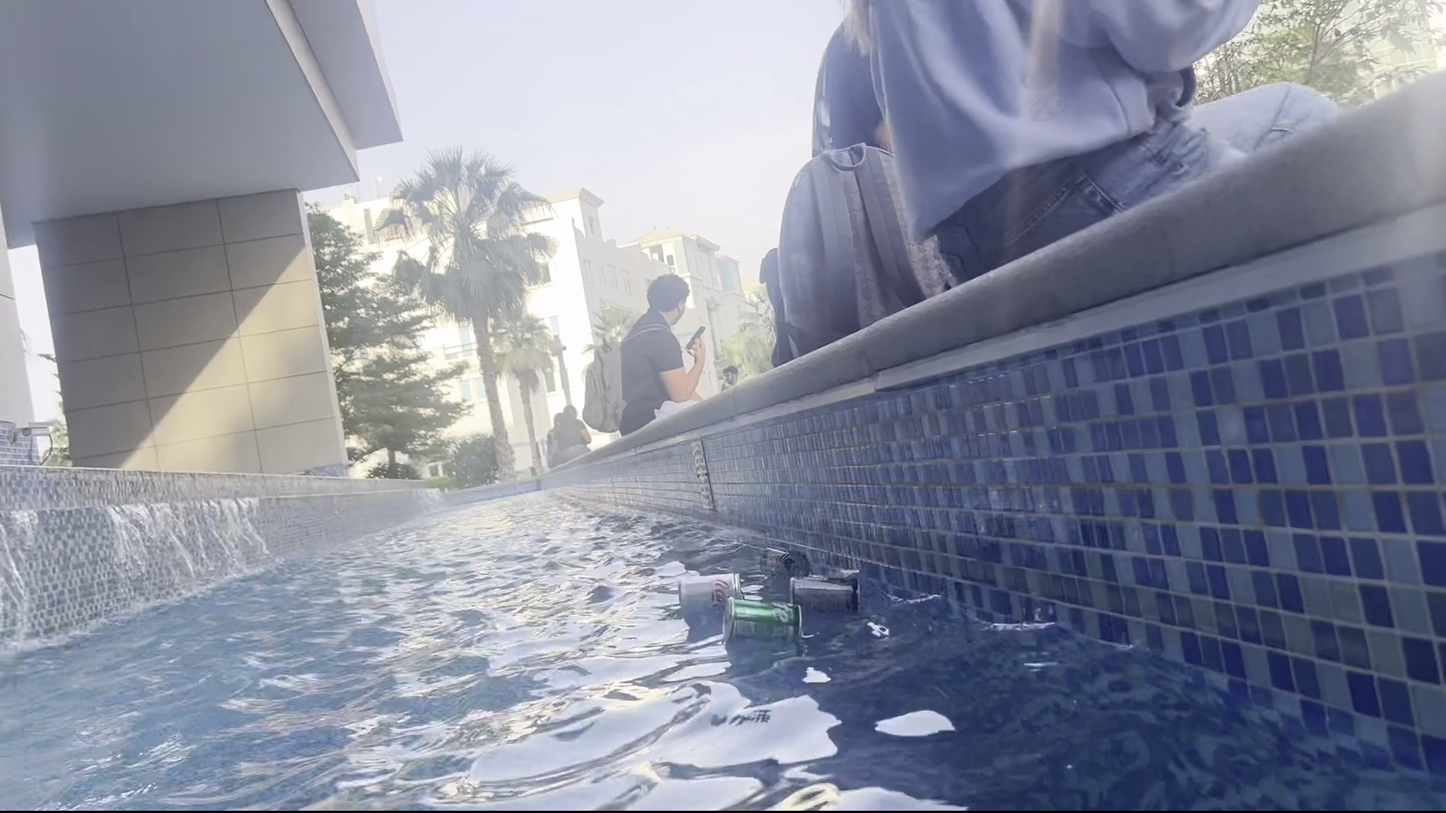debris: (715, 594, 810, 648), (783, 571, 867, 618), (670, 571, 745, 615), (753, 544, 814, 583)
